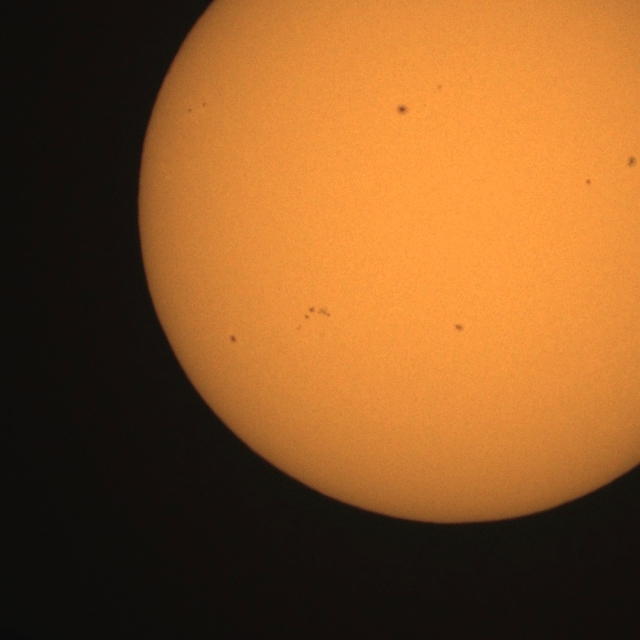sunspot: (302, 306, 331, 321), (397, 104, 409, 117), (627, 155, 637, 169), (454, 323, 465, 333), (229, 334, 238, 344), (436, 84, 443, 92), (585, 178, 592, 186), (201, 101, 207, 109)
